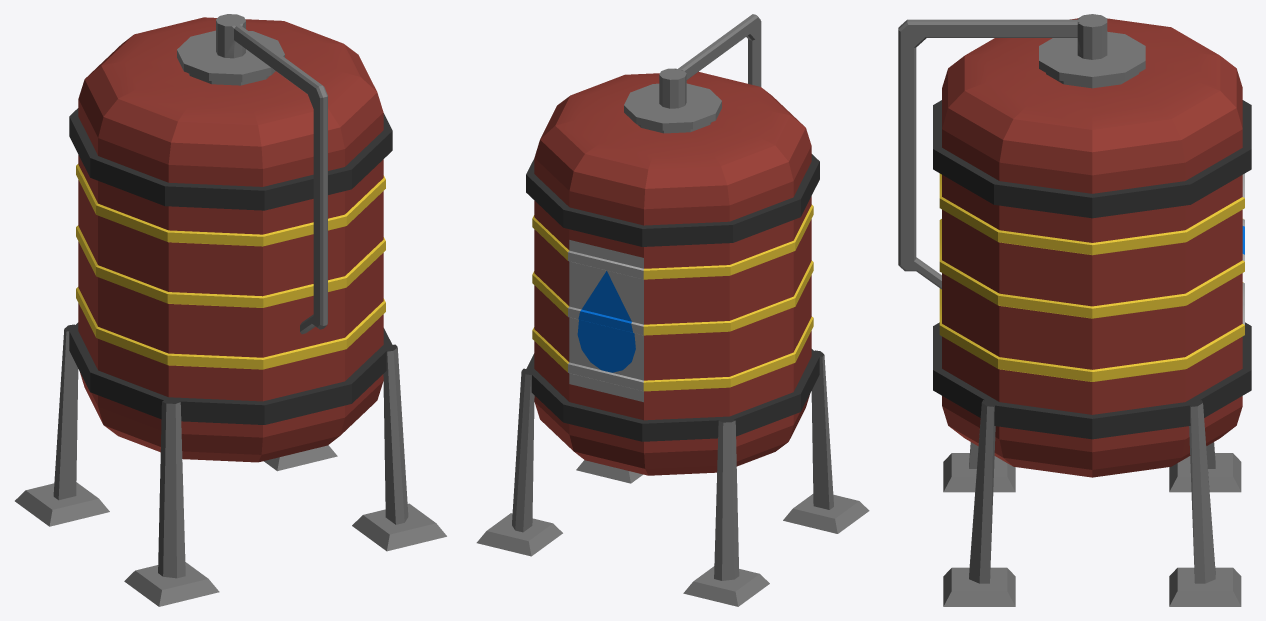
Rendered from Water Tank.fbx.
3 views of the same model, side by side, from view 1: azimuth 30°, elevation 25°; view 2: azimuth 150°, elevation 25°; view 3: azimuth 270°, elevation 25° (orthographic). The views are drawn at different scales.
Visible parts, largest first — view 1: Water_Tank; view 2: Water_Tank; view 3: Water_Tank.
Boxes of the visible parts, x1=… form: Water_Tank: x1=15, y1=14, x2=446, y2=606; Water_Tank: x1=476, y1=14, x2=869, y2=606; Water_Tank: x1=898, y1=14, x2=1251, y2=606.
Size of the model in its own units: 760 by 1255 by 783.
